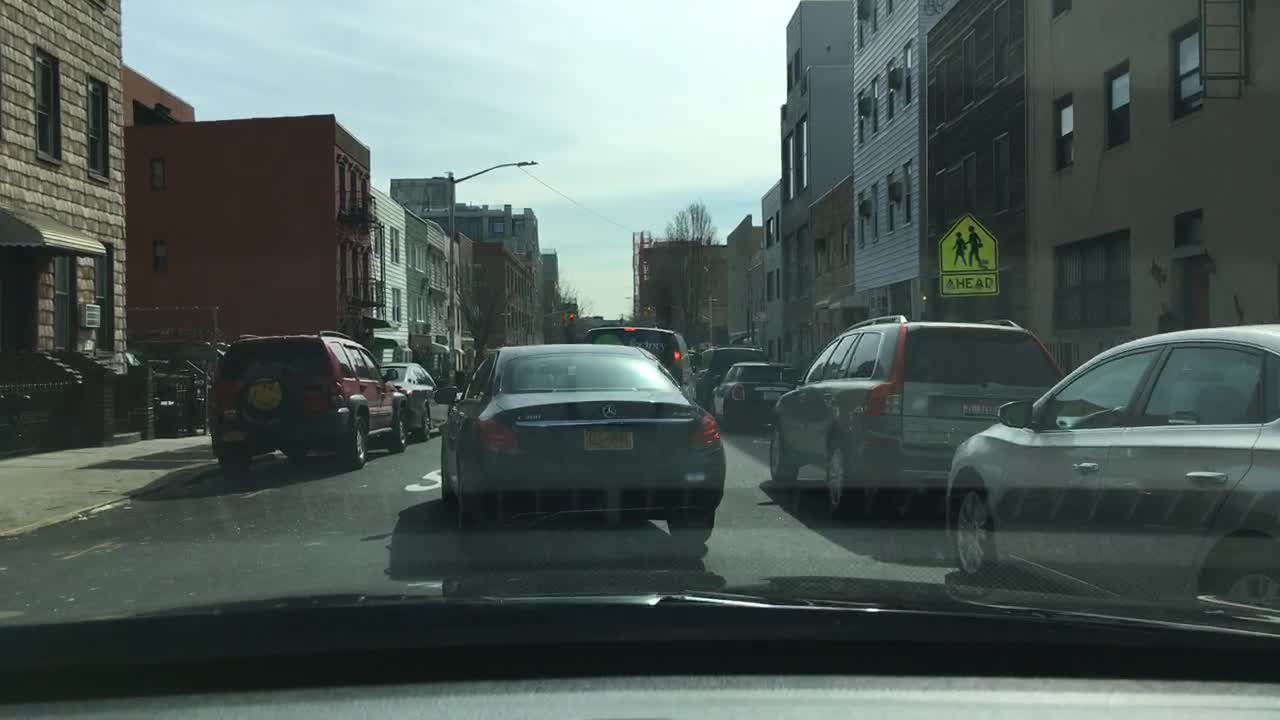car: (942, 322, 1278, 637), (765, 311, 1069, 519), (437, 341, 727, 544), (204, 327, 402, 479), (578, 323, 695, 406), (709, 358, 800, 428), (379, 358, 440, 451), (691, 346, 770, 411)
traffic light: (566, 306, 580, 325)
traffic sign: (935, 210, 1002, 297)
